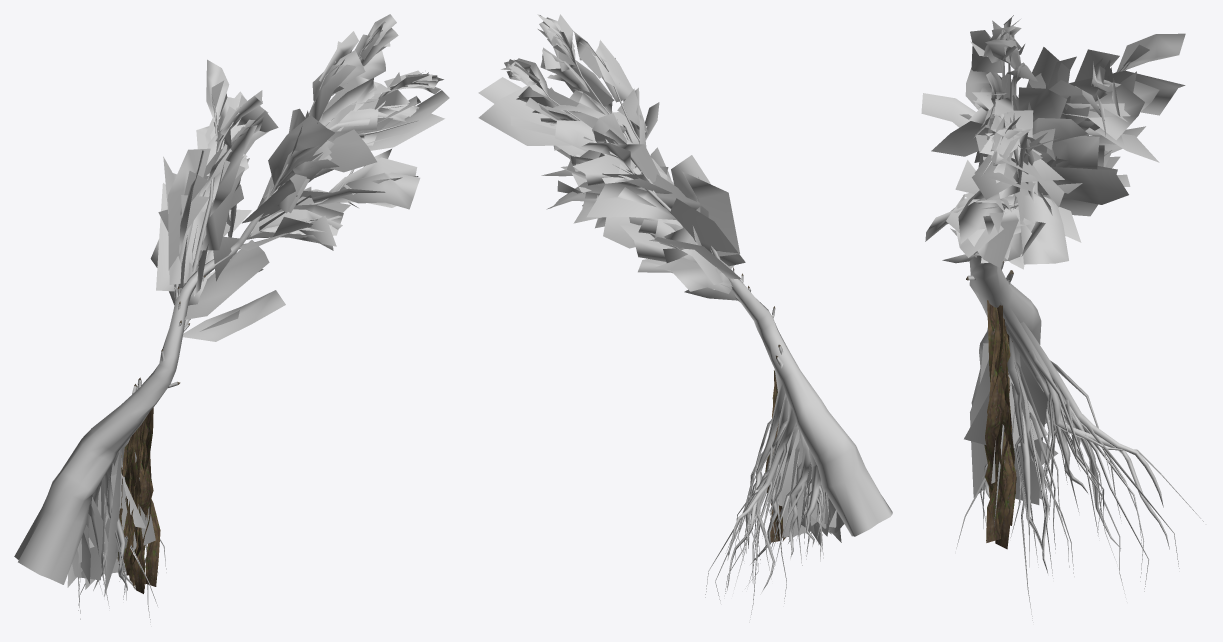
The model's file is Tree_05_1_L3.fbx.
The picture shows the model from 3 angles, left to right: view 1: azimuth 30°, elevation 25°; view 2: azimuth 150°, elevation 25°; view 3: azimuth 270°, elevation 25°; orthographic projection. The views are drawn at different scales.
Parts seen in each view (by area): view 1: polySurface269; view 2: polySurface269; view 3: polySurface269.
Boxes of the visible parts, box(x1,y1,x2,y2) form: polySurface269: box(14, 14, 449, 622); polySurface269: box(478, 14, 892, 622); polySurface269: box(921, 15, 1203, 622).
Bounding box in the file's own units: 1072 × 1332 × 459.
